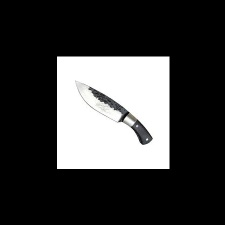k1: (74, 77, 132, 125)
